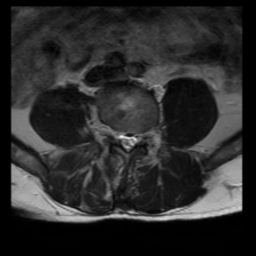CCS_normal: (123, 128, 130, 158)
LFS_normal: (140, 122, 148, 153)
LLS_normal: (130, 126, 139, 153)
RFS_normal: (108, 121, 116, 151)
RLS_normal: (116, 124, 123, 152)
